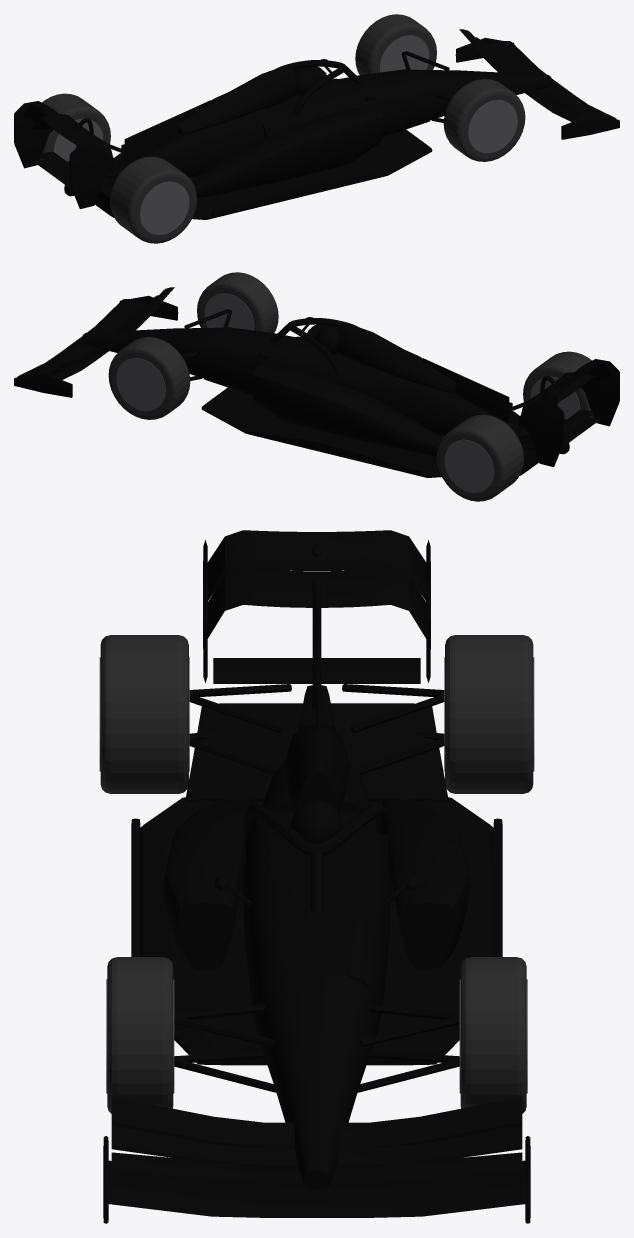
The model's file is car.glb.
The picture shows the model from 3 angles, top to bottom: view 1: azimuth 30°, elevation 25°; view 2: azimuth 150°, elevation 25°; view 3: azimuth 270°, elevation 25°; orthographic projection. The views are drawn at different scales.
Visible parts, largest first — view 1: body, wheel_RR, wheel_FR, wheel_FL, wheel_RL; view 2: body, wheel_RL, wheel_FL, wheel_FR, wheel_RR; view 3: body, wheel_RL, wheel_RR, wheel_FL, wheel_FR.
Boxes of the visible parts, left/top/right/bottom form: body: left=14, top=29, right=619, bottom=219; wheel_RR: left=110, top=156, right=196, bottom=243; wheel_FR: left=443, top=79, right=525, bottom=161; wheel_FL: left=355, top=14, right=436, bottom=74; wheel_RL: left=40, top=93, right=110, bottom=161; body: left=14, top=287, right=619, bottom=477; wheel_RL: left=437, top=414, right=523, bottom=501; wheel_FL: left=108, top=337, right=190, bottom=419; wheel_FR: left=197, top=272, right=278, bottom=332; wheel_RR: left=523, top=351, right=593, bottom=419; body: left=103, top=530, right=530, bottom=1223; wheel_RL: left=444, top=635, right=534, bottom=793; wheel_RR: left=99, top=635, right=189, bottom=793; wheel_FL: left=459, top=957, right=527, bottom=1113; wheel_FR: left=106, top=957, right=174, bottom=1113.
Bounding box in the file's own units: 5.48 × 1 × 1.97.
3 materials, 1 textured.
